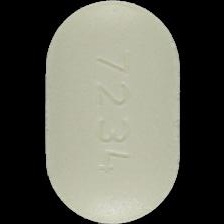66116-439: (0, 0, 224, 224)
